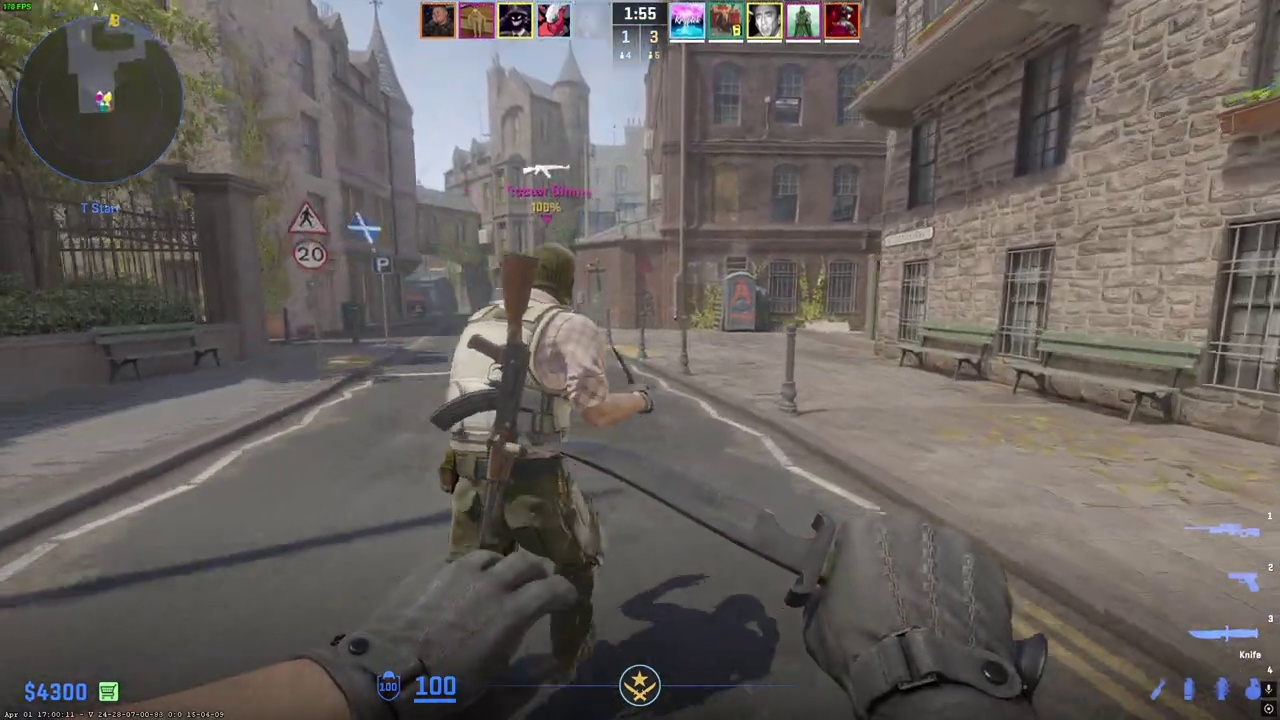Terrorist: (439, 243, 623, 685)
